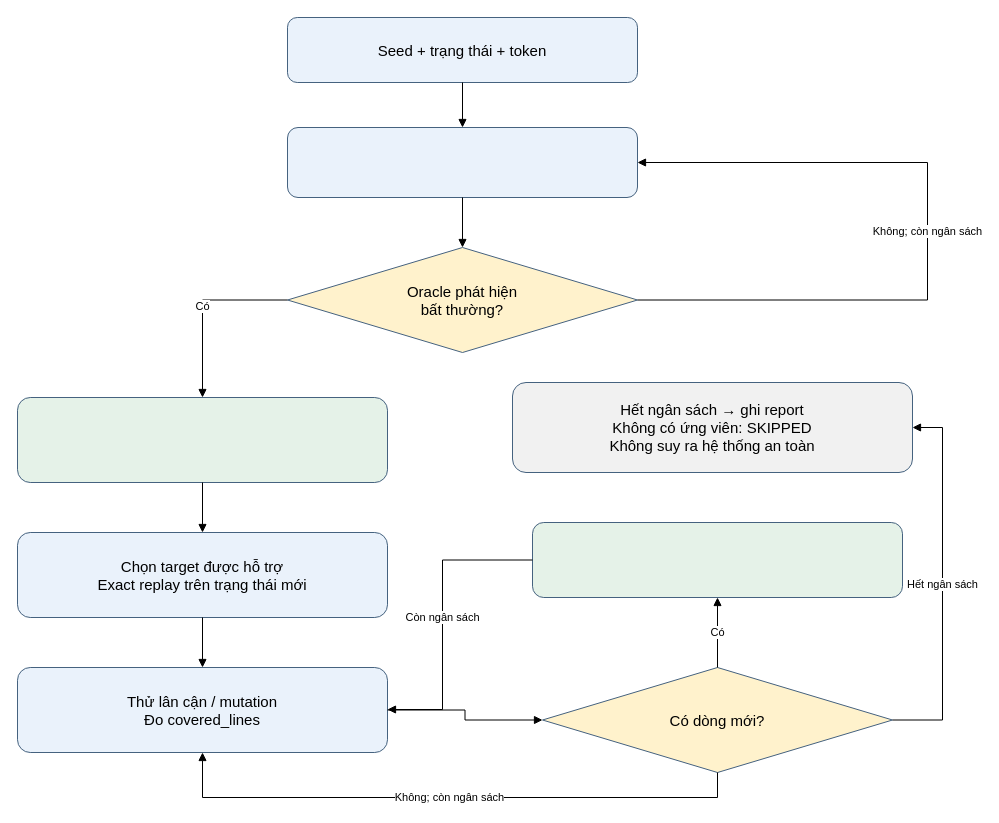
The diagram is 999 pixels wide and 823 high, and some of its shapes have lost their labels. The shapes that lost their labels are listed below. From the top down, each one's centre as x and y in pixels, then its label:
point (462, 162): Mutation → gửi HTTP Thu status và response
point (202, 439): Lưu input, auth context Response + loại lỗi
point (717, 560): Giữ input trong hàng đợi để sinh mutation tiếp theo
